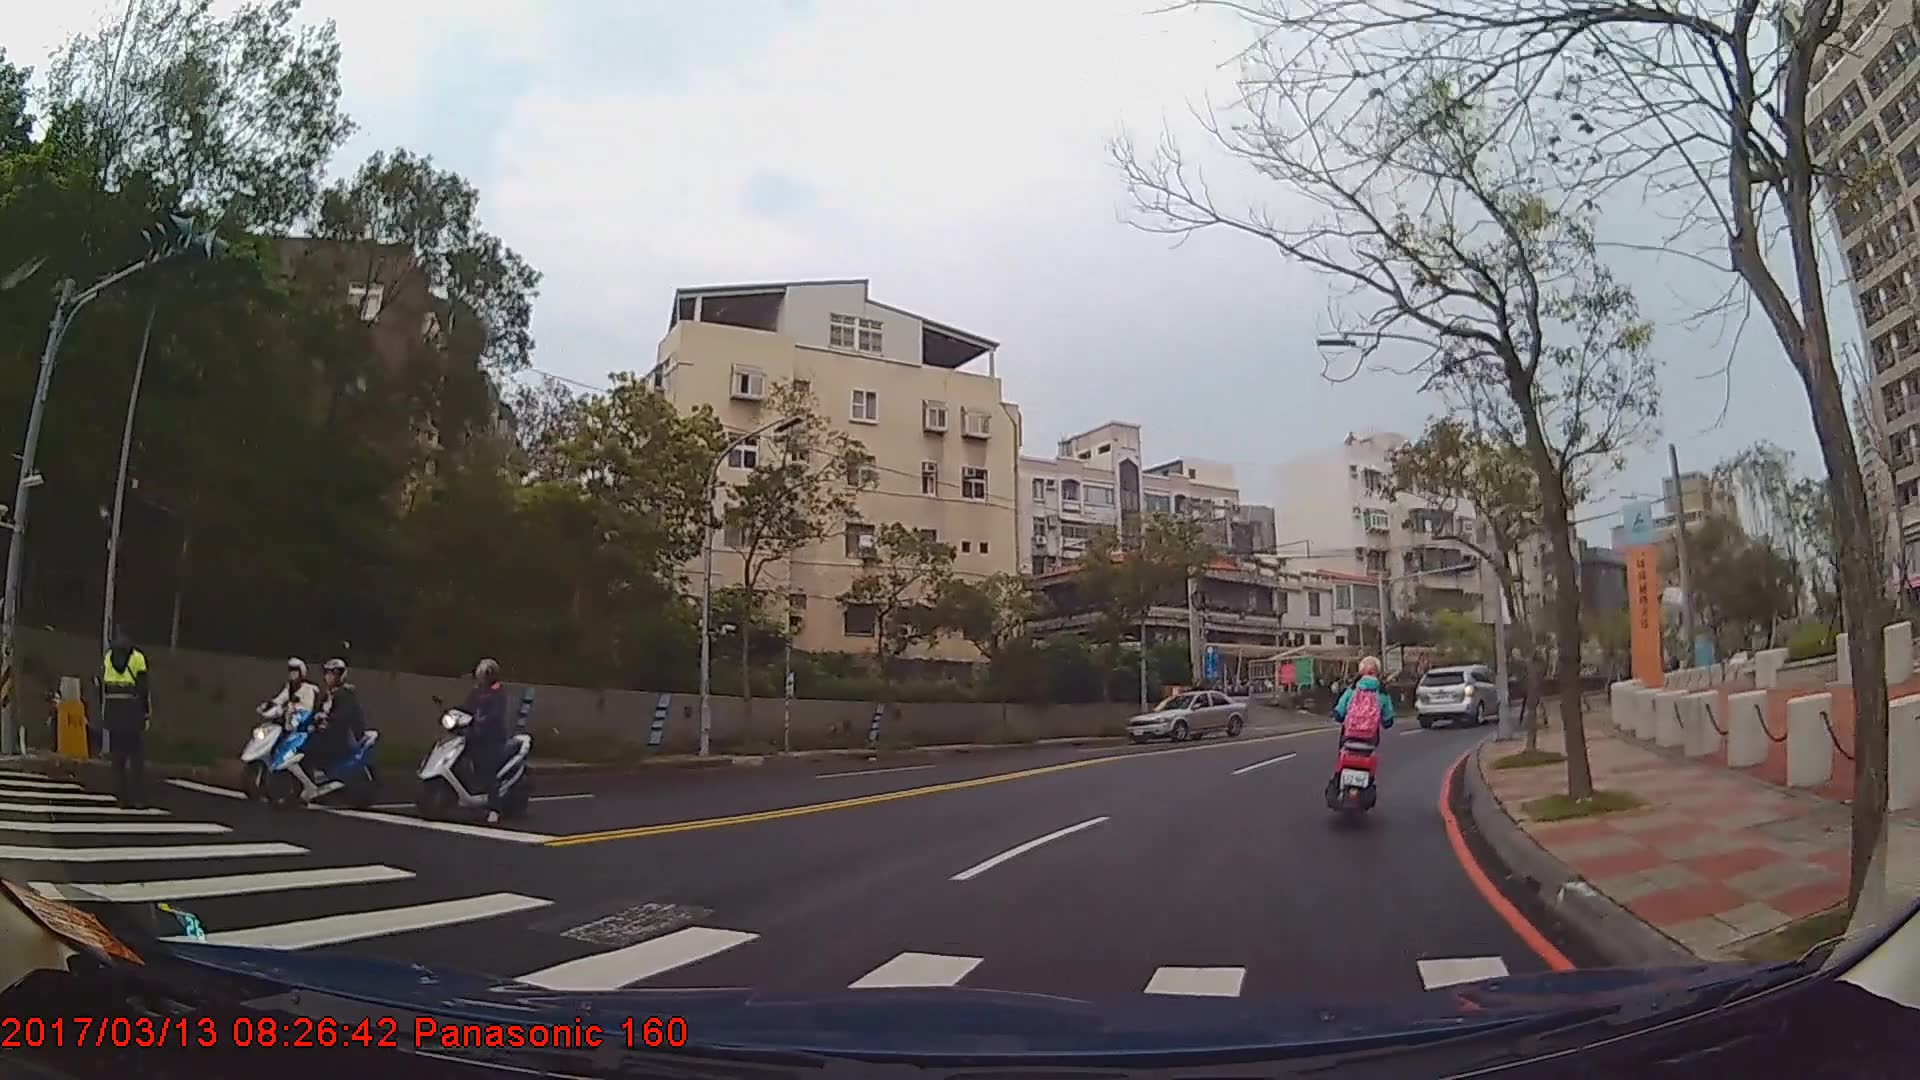pedestrian: (92, 621, 157, 811)
rider: (409, 661, 534, 828), (276, 657, 372, 803), (244, 658, 337, 795), (1330, 661, 1395, 814)
vehicle: (1122, 689, 1247, 746), (1414, 662, 1509, 725)
